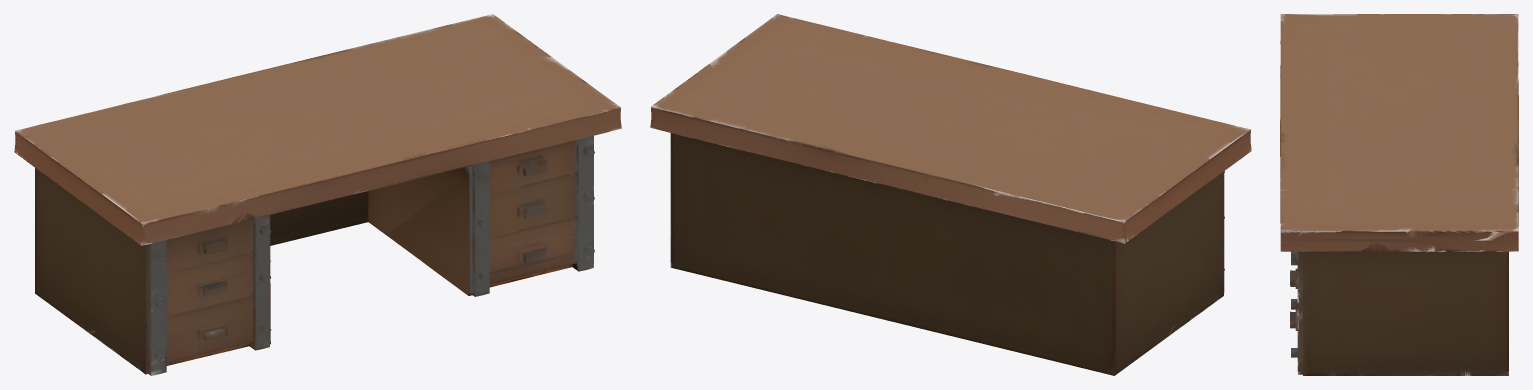
The model's file is base_basic_shaded.fbx.
The picture shows the model from 3 angles, left to right: view 1: azimuth 30°, elevation 25°; view 2: azimuth 150°, elevation 25°; view 3: azimuth 270°, elevation 25°; orthographic projection. The views are drawn at different scales.
Parts seen in each view (by area): view 1: model; view 2: model; view 3: model.
Boxes of the visible parts, <box> form: model: <box>14,14,621,375</box>; model: <box>650,14,1251,375</box>; model: <box>1280,14,1518,375</box>.
Size of the model in its own units: 183 by 59.32 by 84.57.
